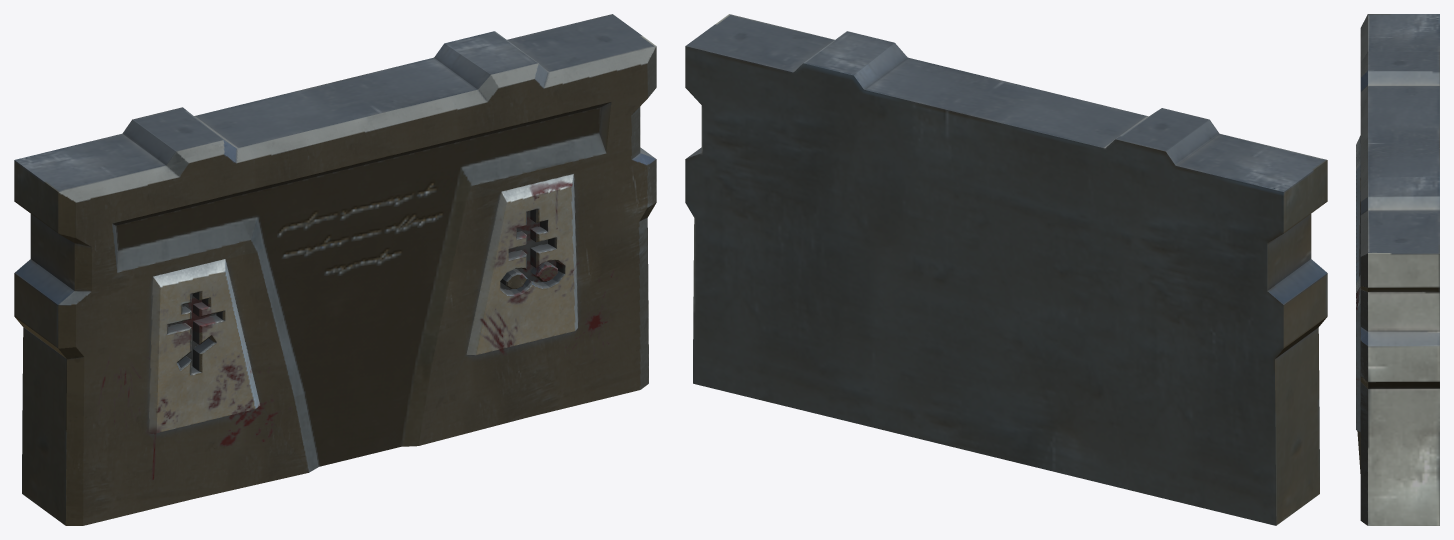
The picture shows the model from 3 angles, left to right: view 1: azimuth 30°, elevation 25°; view 2: azimuth 150°, elevation 25°; view 3: azimuth 270°, elevation 25°; orthographic projection. The views are drawn at different scales.
Parts seen in each view (by area): view 1: Puerta_Cube.013; view 2: Puerta_Cube.013; view 3: Puerta_Cube.013.
Part boxes in pixels (x1=…): Puerta_Cube.013: x1=14, y1=14, x2=656, y2=525; Puerta_Cube.013: x1=685, y1=14, x2=1327, y2=525; Puerta_Cube.013: x1=1356, y1=14, x2=1439, y2=525.
Size of the model in its own units: 21.32 by 11.83 by 3.15.
